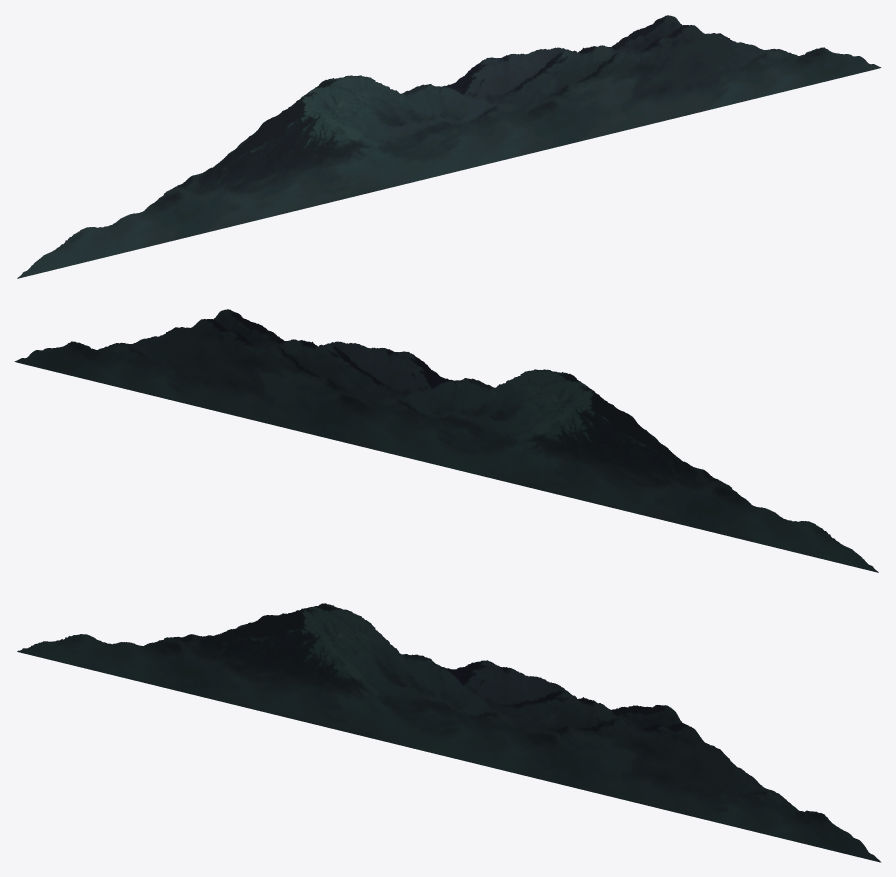
File: Hill_Far2.fbx
The picture shows the model from 3 angles, top to bottom: view 1: azimuth 30°, elevation 25°; view 2: azimuth 150°, elevation 25°; view 3: azimuth 330°, elevation 25°; orthographic projection.
Parts seen in each view (by area): view 1: SM_d_109_far_hill_02a; view 2: SM_d_109_far_hill_02a; view 3: SM_d_109_far_hill_02a.
Part boxes in pixels (box(x1,y1,x2,y2)): SM_d_109_far_hill_02a: box(17, 15, 881, 278); SM_d_109_far_hill_02a: box(14, 309, 878, 572); SM_d_109_far_hill_02a: box(17, 603, 881, 862).
Bounding box in the file's own units: 39654 × 5445 × 2.24e-20.
